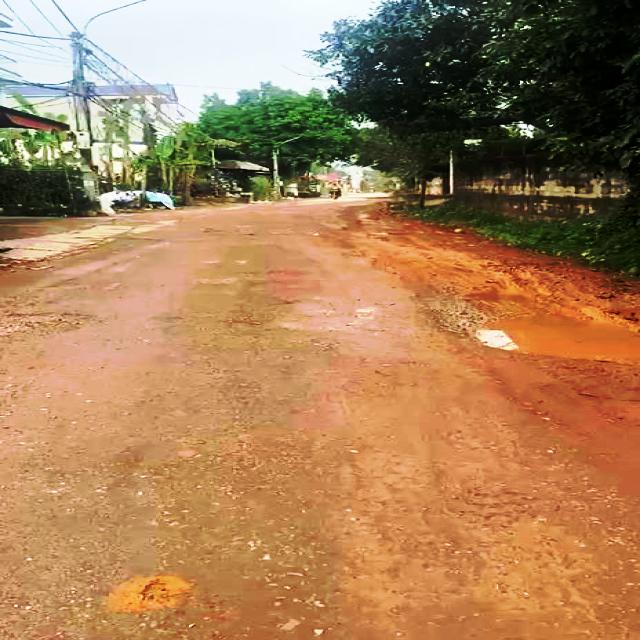pothole: (431, 310, 640, 368), (0, 309, 103, 338)
